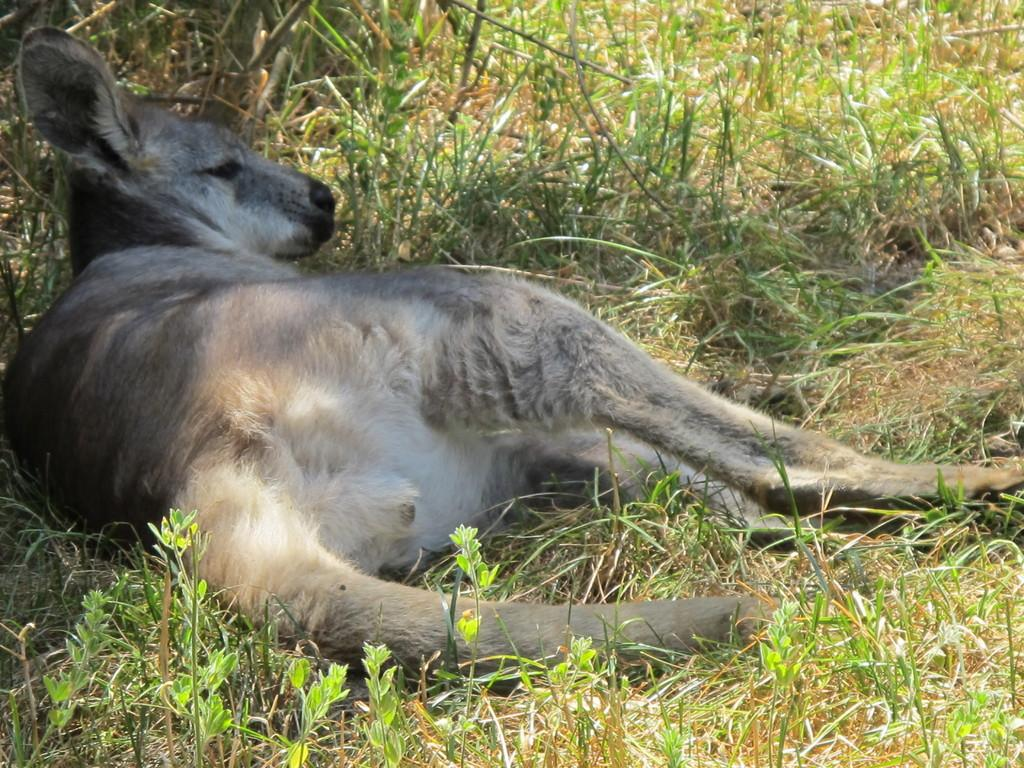kangaroo: (0, 28, 1023, 690)
